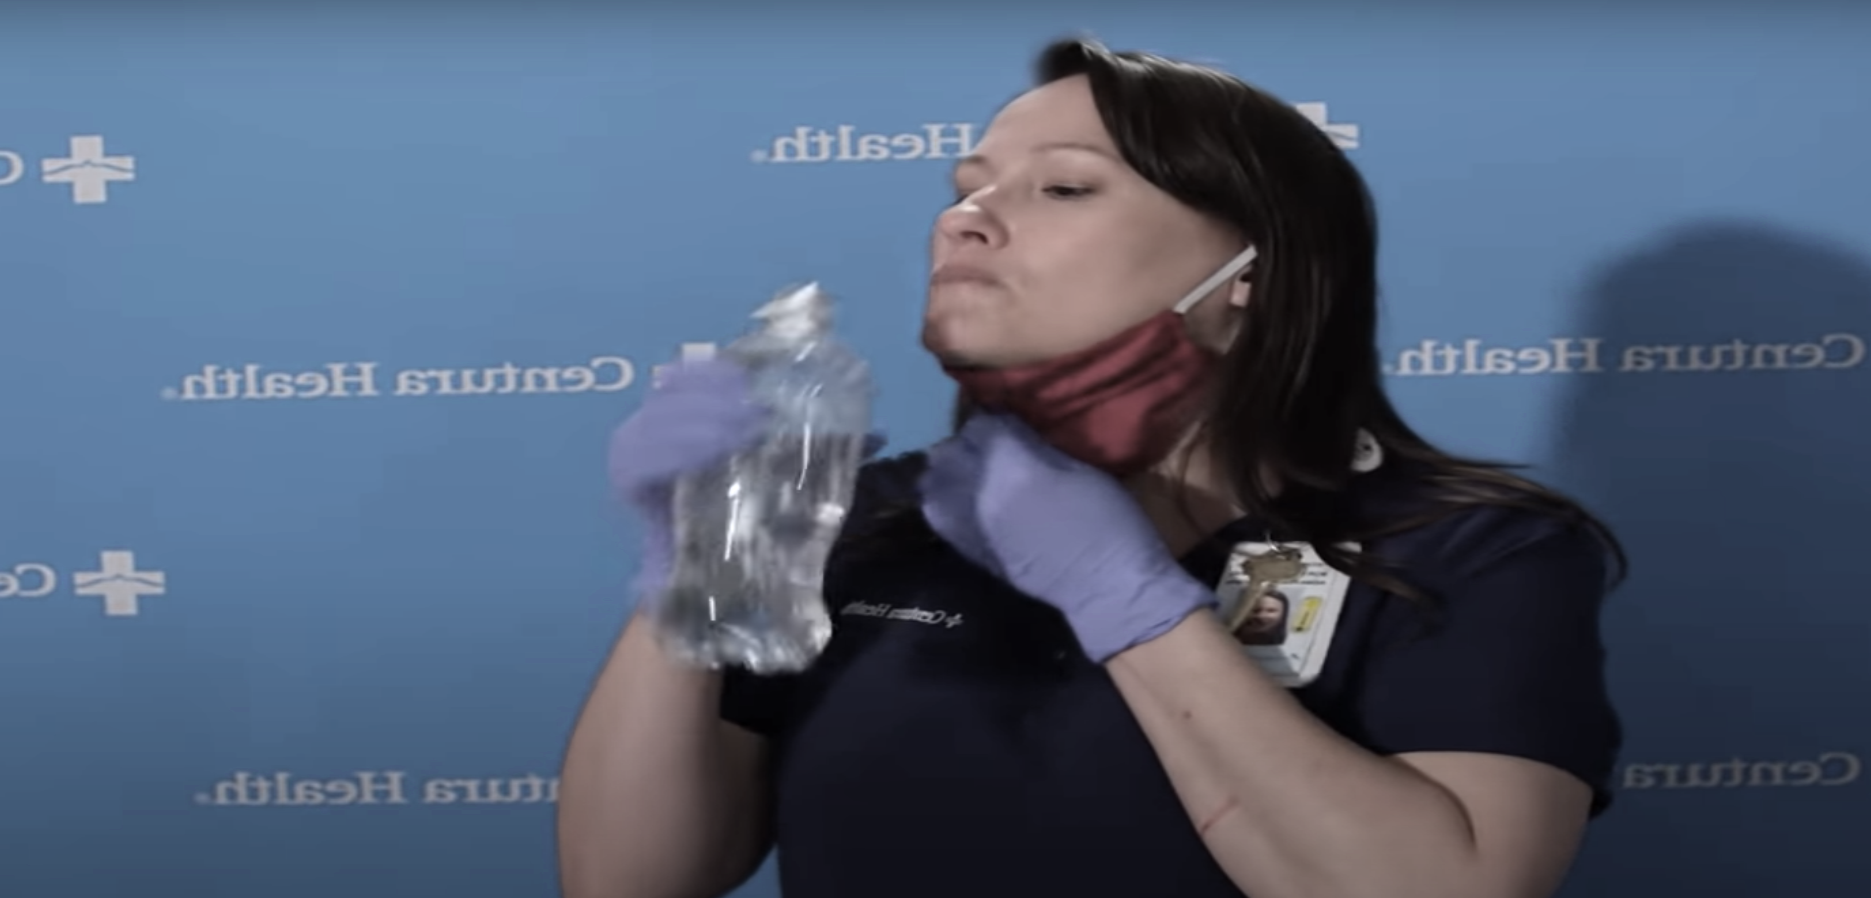mask_weared_incorrect: (919, 40, 1372, 477)
